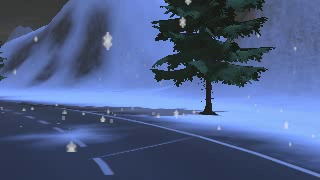Lane: (1, 100, 319, 179)
